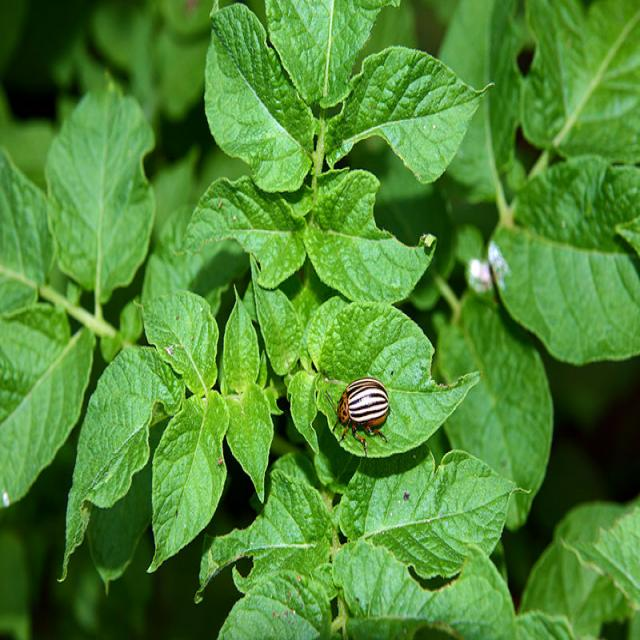ShuCaiHuaBanChong-Grown-: (334, 371, 398, 461)
